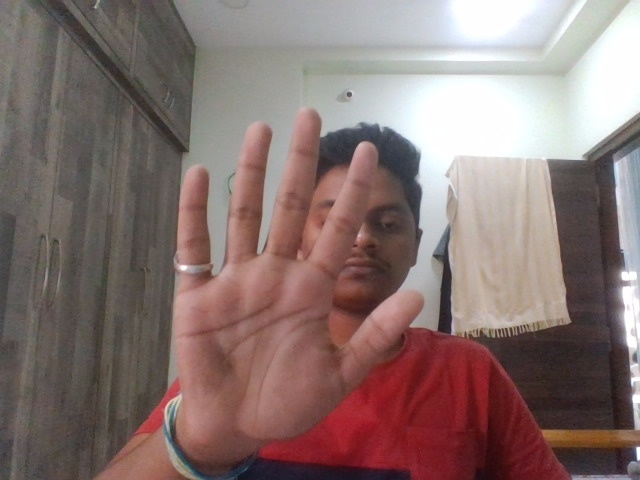Hello: (142, 94, 435, 453)
